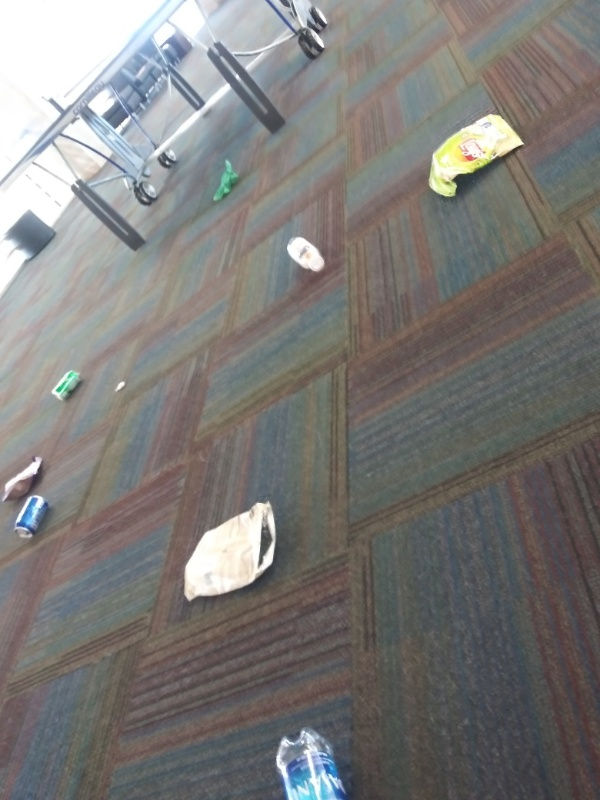bag: (177, 495, 285, 607), (426, 108, 527, 204), (3, 452, 48, 505)
bottle: (267, 724, 359, 800), (280, 232, 329, 273)
can: (11, 492, 52, 545), (49, 368, 84, 405)
